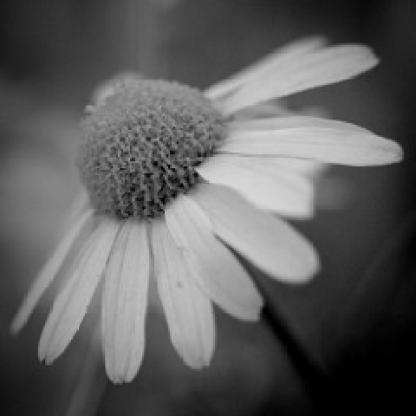ASTER: (10, 32, 405, 386)
